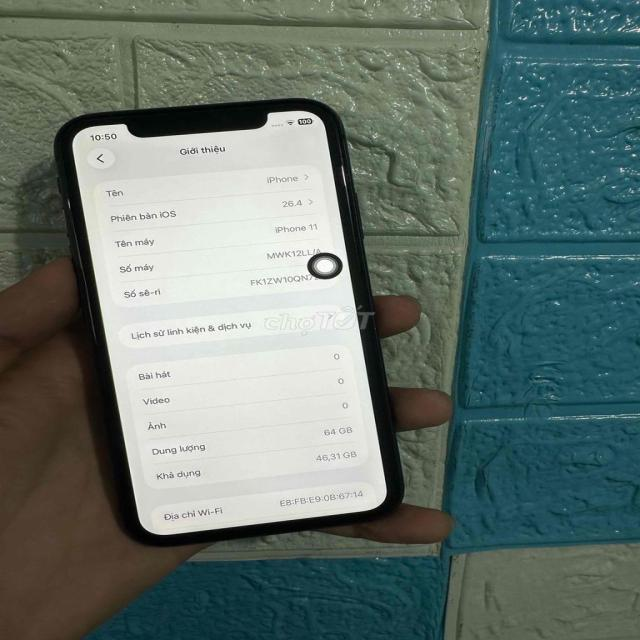gen_11: (46, 95, 418, 546)
